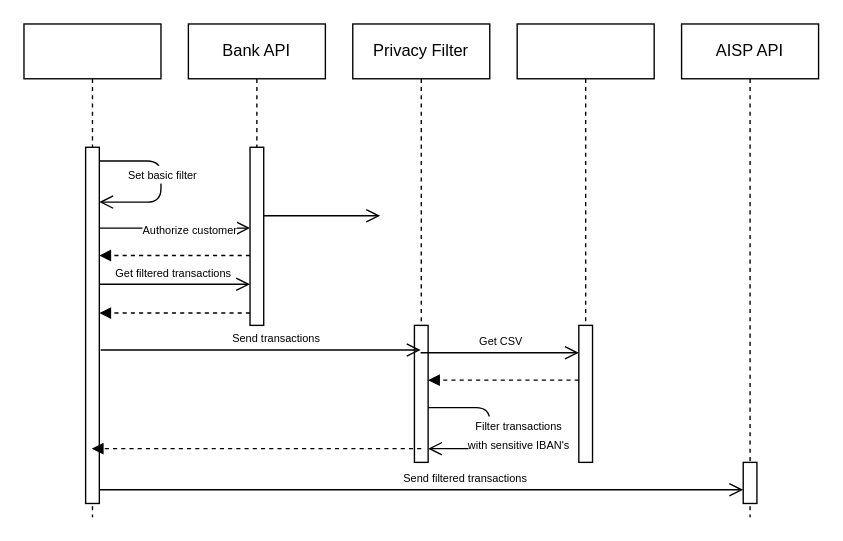
The diagram is 843 pixels wide and 541 high, and some of its shapes have lost their labels. Each missing label, with the box of its shape:
Gatekeeper: (23, 23, 161, 517)
Web Storage: (516, 23, 654, 449)
